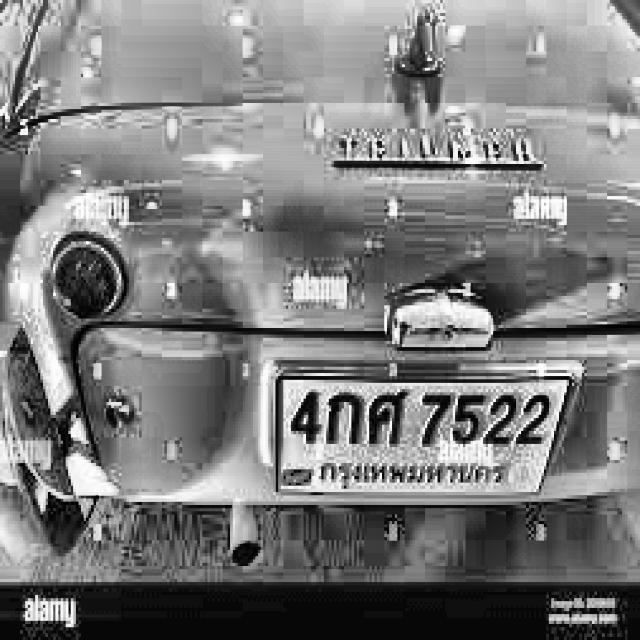license-plate: (274, 365, 580, 501)
